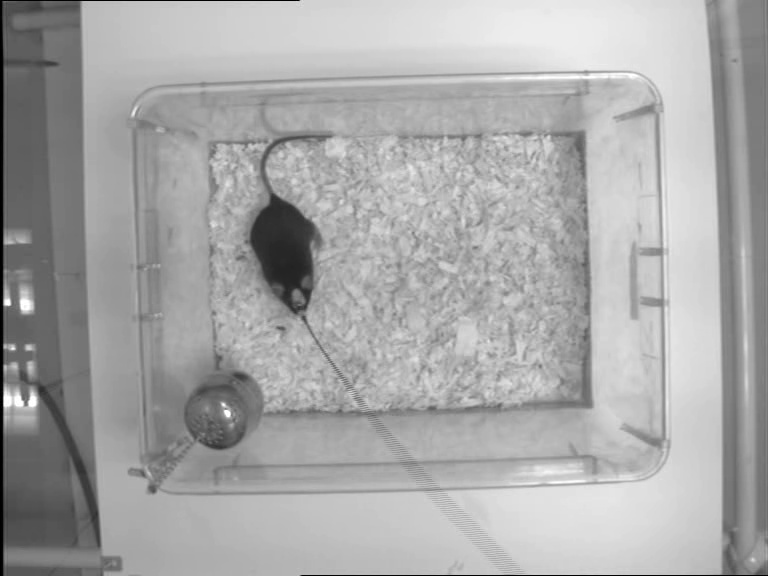mice: (250, 134, 335, 321)
